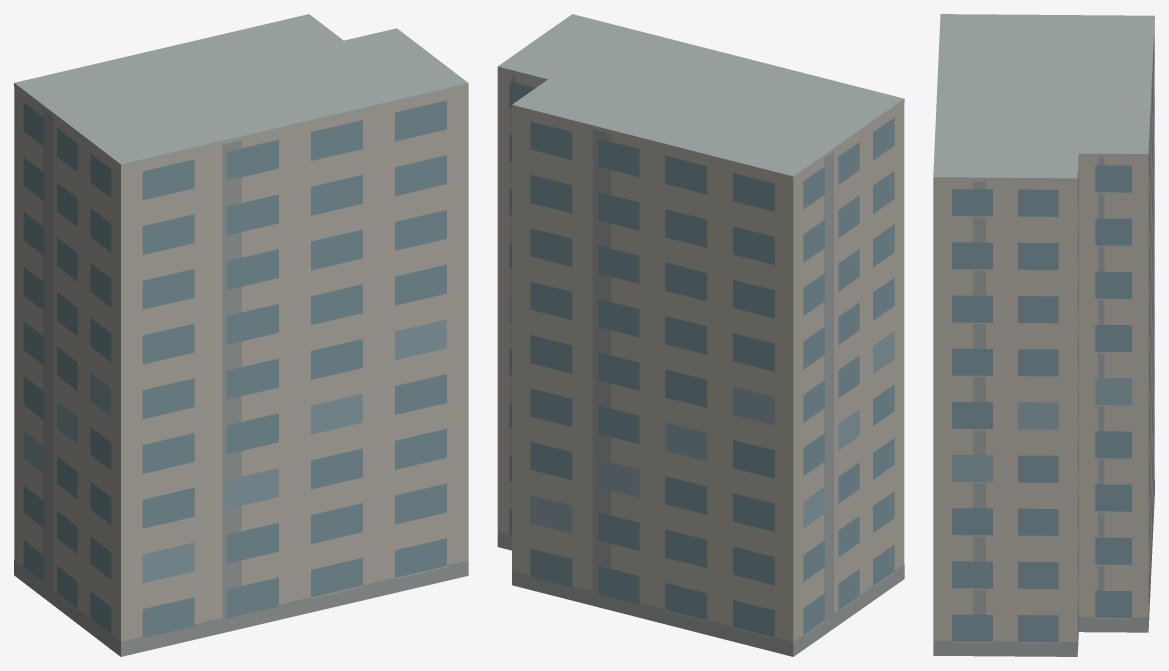
Rendered from residential-930e6e4d-ae66-4018-9028-43c8d38c6e62.glb.
3 renders of one model, left to right at view 1: azimuth 30°, elevation 25°; view 2: azimuth 150°, elevation 25°; view 3: azimuth 270°, elevation 25°, orthographic. The views are drawn at different scales.
Visible parts, largest first — view 1: residential-930e6e4d-ae66-4018-9028-43c8d38c6e62.tmp; view 2: residential-930e6e4d-ae66-4018-9028-43c8d38c6e62.tmp; view 3: residential-930e6e4d-ae66-4018-9028-43c8d38c6e62.tmp.
Boxes of the visible parts, x1,y1,x2,y2 form: residential-930e6e4d-ae66-4018-9028-43c8d38c6e62.tmp: (14,14,468,656); residential-930e6e4d-ae66-4018-9028-43c8d38c6e62.tmp: (497,14,904,656); residential-930e6e4d-ae66-4018-9028-43c8d38c6e62.tmp: (933,14,1154,656).
Bounding box in the file's own units: 21.37 × 29 × 12.18.
